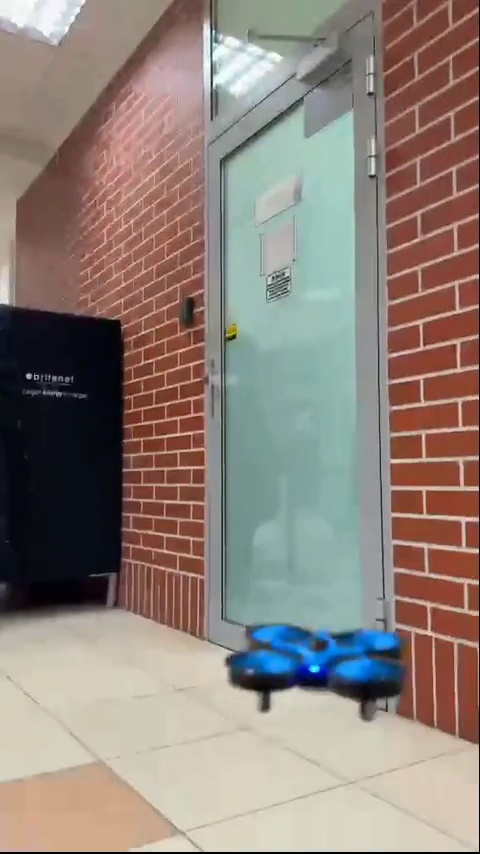drone: (228, 610, 403, 725)
